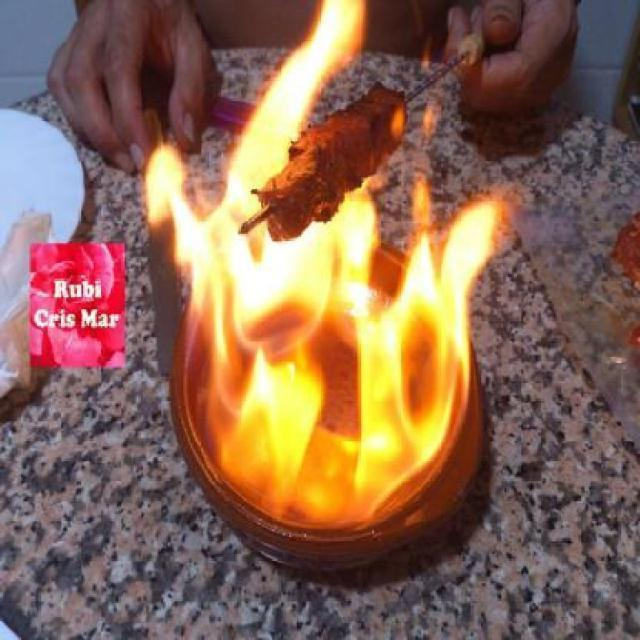Fire: (143, 0, 508, 548)
